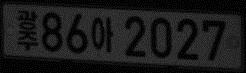0: (149, 16, 172, 57)
2: (123, 14, 146, 57), (176, 17, 199, 60)
6: (66, 12, 89, 54)
7: (201, 19, 226, 61)
8: (41, 10, 64, 52)
광주_V: (16, 8, 39, 51)
아: (90, 16, 114, 53)
